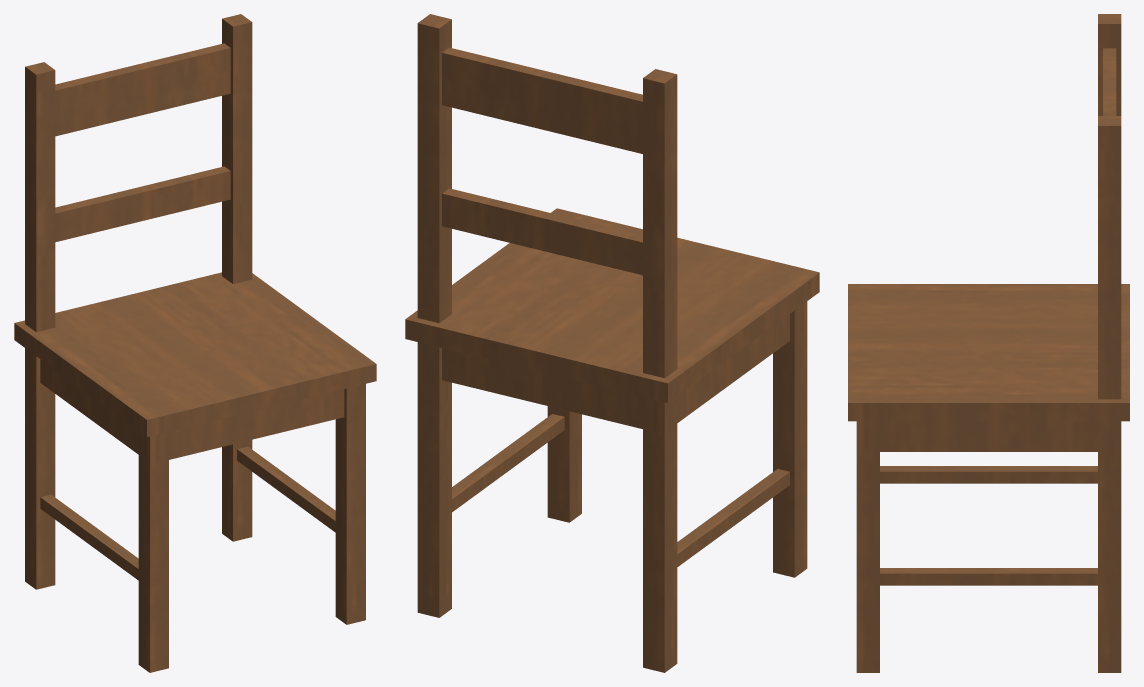
Rendered from Chair_Plain.fbx.
3 views of the same model, side by side, from view 1: azimuth 30°, elevation 25°; view 2: azimuth 150°, elevation 25°; view 3: azimuth 270°, elevation 25° (orthographic). The views are drawn at different scales.
Visible parts, largest first — view 1: стул как стол; view 2: стул как стол; view 3: стул как стол.
Boxes of the visible parts, <box> form: стул как стол: <box>14,14,376,672</box>; стул как стол: <box>405,14,819,672</box>; стул как стол: <box>848,14,1129,672</box>.
Bounding box in the file's own units: 0.42 × 0.9 × 0.42.
Materials: 1 (1 with a texture image).
